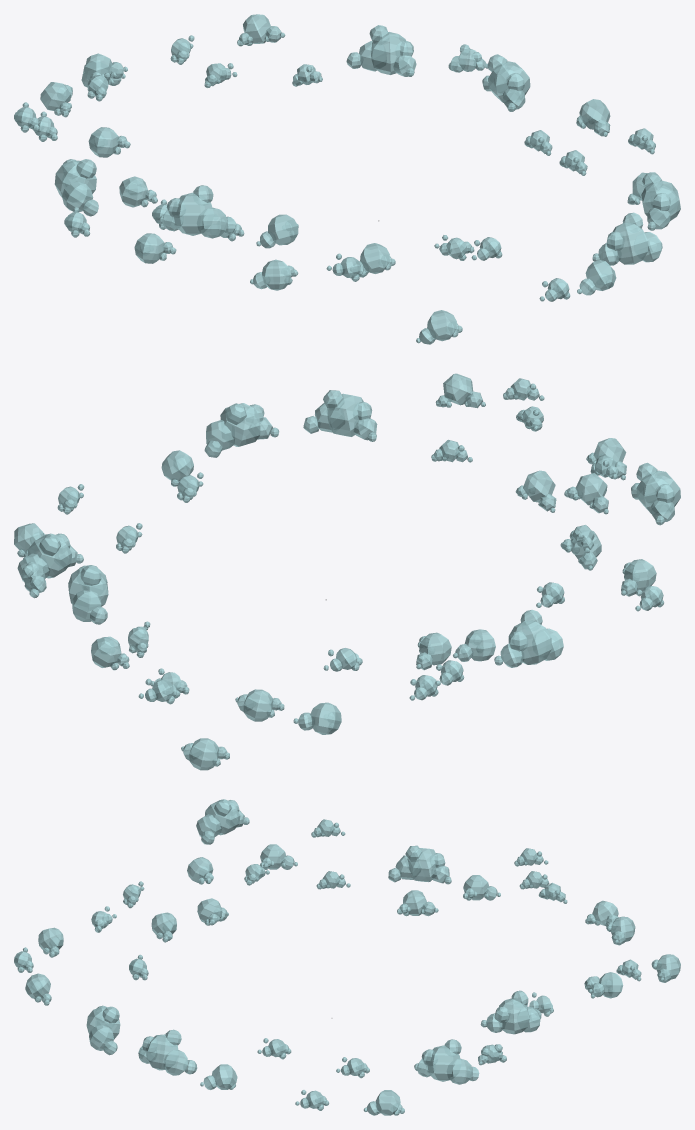
File: cloud.fbx
3 renders of one model, top to bottom at view 1: azimuth 30°, elevation 25°; view 2: azimuth 150°, elevation 25°; view 3: azimuth 270°, elevation 25°, orthographic. The views are drawn at different scales.
Visible parts, largest first — view 1: pSphere42, pSphere53, pSphere38, pSphere24, pSphere29, pSphere41, pSphere48, pSphere35, pSphere43, pSphere46, pSphere30, pSphere37 (+14 smaller); view 2: pSphere38, pSphere41, pSphere24, pSphere42, pSphere53, pSphere29, pSphere37, pSphere46, pSphere40, pSphere50, pSphere56, pSphere54 (+13 smaller); view 3: pSphere29, pSphere41, pSphere24, pSphere53, pSphere42, pSphere38, pSphere25, pSphere30, pSphere60, pSphere32, pSphere27, pSphere48 (+8 smaller).
Part boxes in pixels (x1=…): pSphere42: x1=159, y1=185, x2=235, y2=238; pSphere53: x1=346, y1=25, x2=416, y2=76; pSphere38: x1=592, y1=212, x2=662, y2=265; pSphere24: x1=54, y1=159, x2=98, y2=216; pSphere29: x1=482, y1=54, x2=530, y2=111; pSphere41: x1=641, y1=172, x2=680, y2=230; pSphere48: x1=237, y1=14, x2=285, y2=46; pSphere35: x1=416, y1=310, x2=462, y2=344; pSphere43: x1=250, y1=259, x2=298, y2=290; pSphere46: x1=256, y1=214, x2=298, y2=248; pSphere30: x1=576, y1=99, x2=610, y2=136; pSphere37: x1=577, y1=260, x2=616, y2=295; pSphere38: x1=303, y1=390, x2=377, y2=441; pSphere41: x1=204, y1=403, x2=279, y2=457; pSphere24: x1=494, y1=609, x2=563, y2=667; pSphere42: x1=631, y1=462, x2=680, y2=525; pSphere53: x1=68, y1=565, x2=108, y2=624; pSphere29: x1=17, y1=533, x2=83, y2=591; pSphere37: x1=435, y1=373, x2=485, y2=408; pSphere46: x1=564, y1=473, x2=608, y2=514; pSphere40: x1=515, y1=470, x2=556, y2=512; pSphere50: x1=235, y1=689, x2=284, y2=721; pSphere56: x1=293, y1=702, x2=341, y2=734; pSphere54: x1=181, y1=738, x2=229, y2=770; pSphere29: x1=414, y1=1039, x2=479, y2=1084; pSphere41: x1=138, y1=1029, x2=197, y2=1075; pSphere24: x1=388, y1=845, x2=451, y2=884; pSphere53: x1=480, y1=990, x2=541, y2=1034; pSphere42: x1=196, y1=799, x2=249, y2=844; pSphere38: x1=86, y1=1005, x2=120, y2=1055; pSphere25: x1=397, y1=890, x2=438, y2=916; pSphere30: x1=363, y1=1090, x2=404, y2=1115; pSphere60: x1=463, y1=875, x2=500, y2=900; pSphere32: x1=200, y1=1064, x2=237, y2=1089; pSphere27: x1=260, y1=844, x2=297, y2=869; pSphere48: x1=588, y1=972, x2=623, y2=998.
Bounding box in the file's own units: 956 × 222 × 1129.
